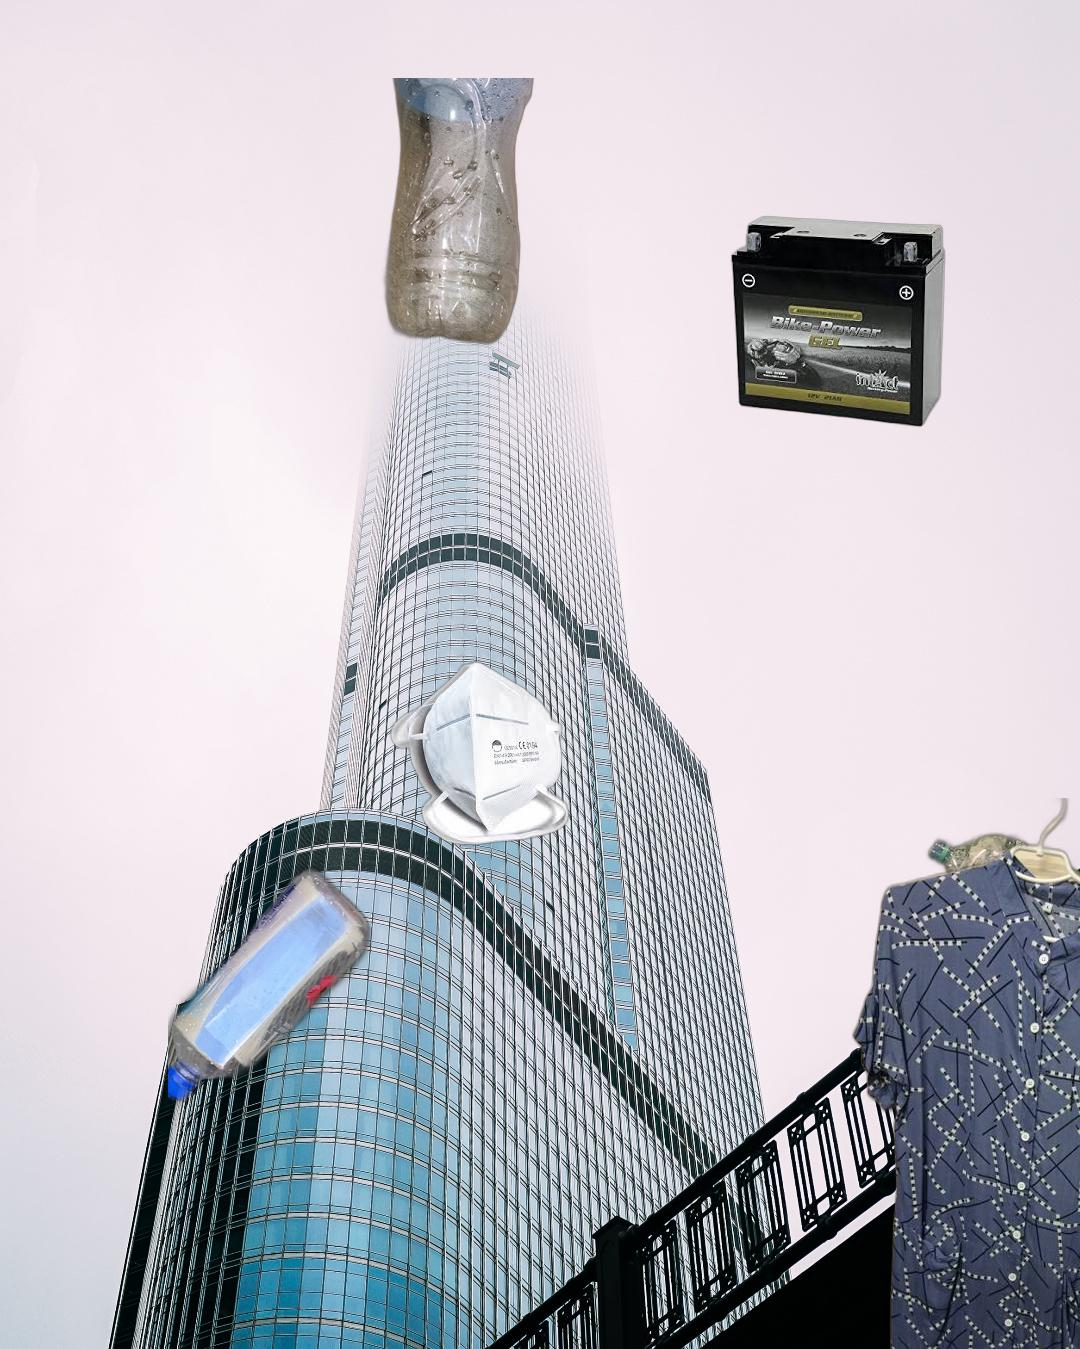battery: (728, 213, 947, 429)
clothes: (850, 798, 1080, 1349)
plastic-bottles: (168, 789, 680, 1349), (378, 78, 537, 347), (924, 829, 1080, 968)
trash: (387, 659, 571, 848)
